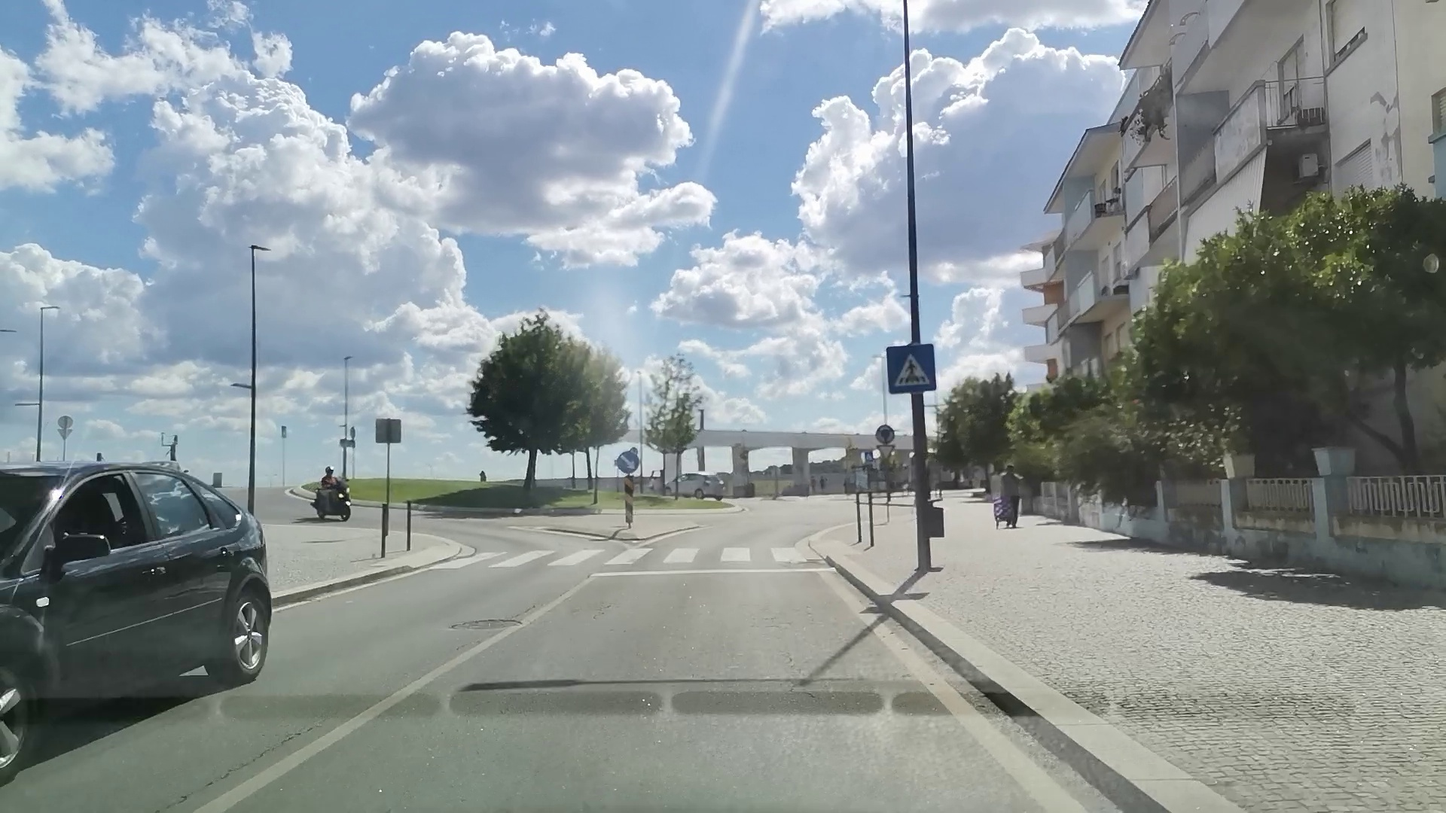Stairs: (427, 545, 820, 567)
